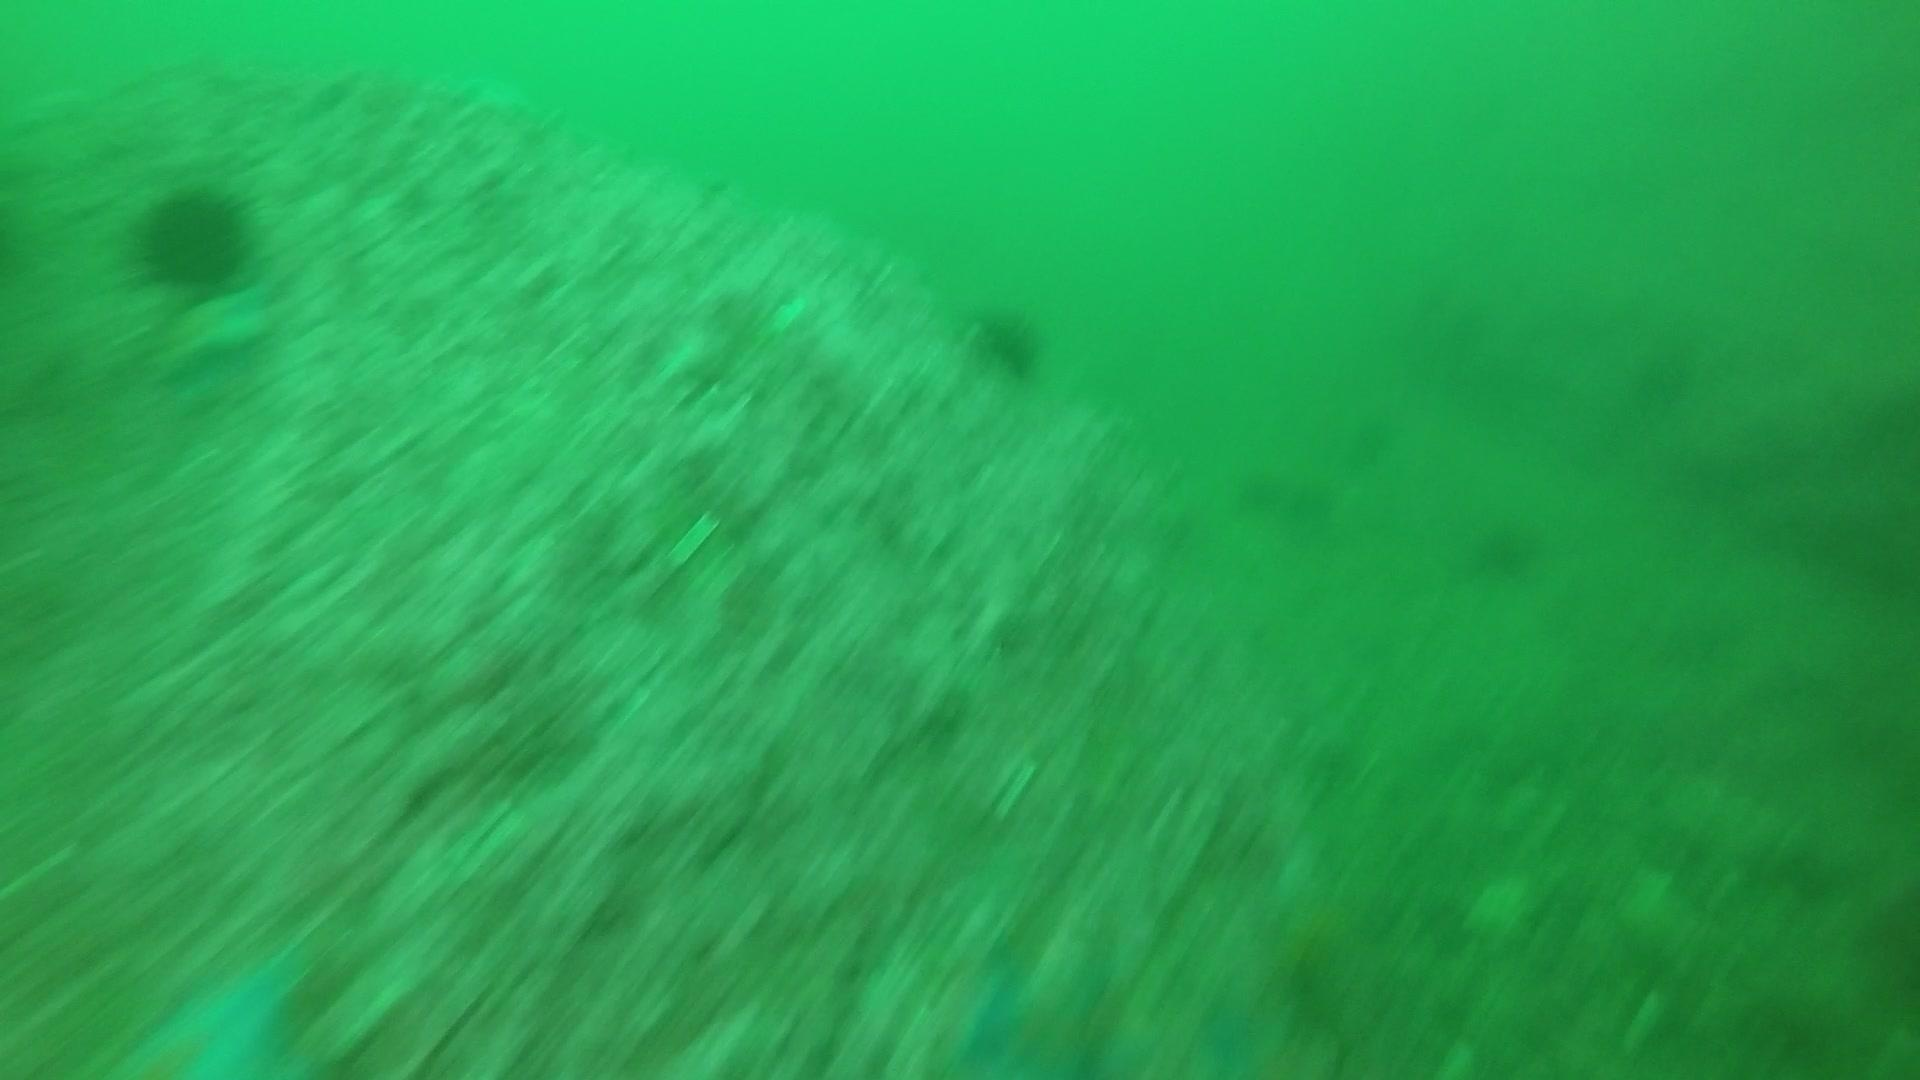echinus: (128, 179, 260, 295), (963, 299, 1048, 382), (1466, 510, 1548, 583)
starfish: (951, 936, 1160, 1079), (105, 938, 316, 1077), (148, 282, 277, 392)
